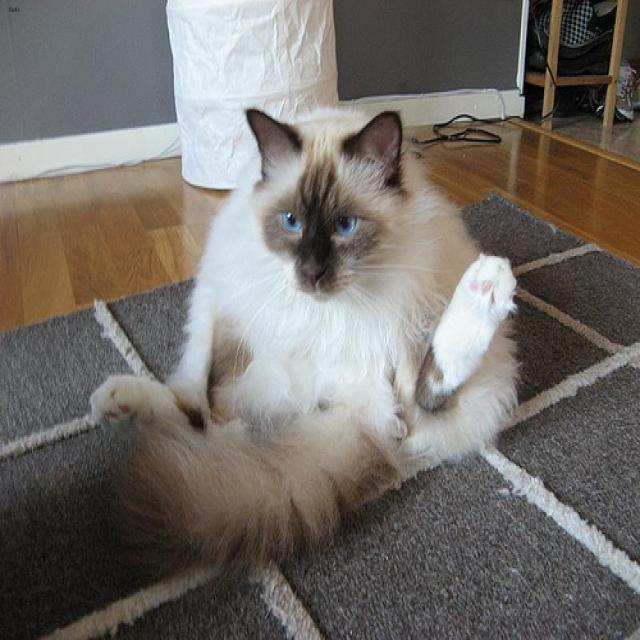Birman: (245, 106, 401, 299)
